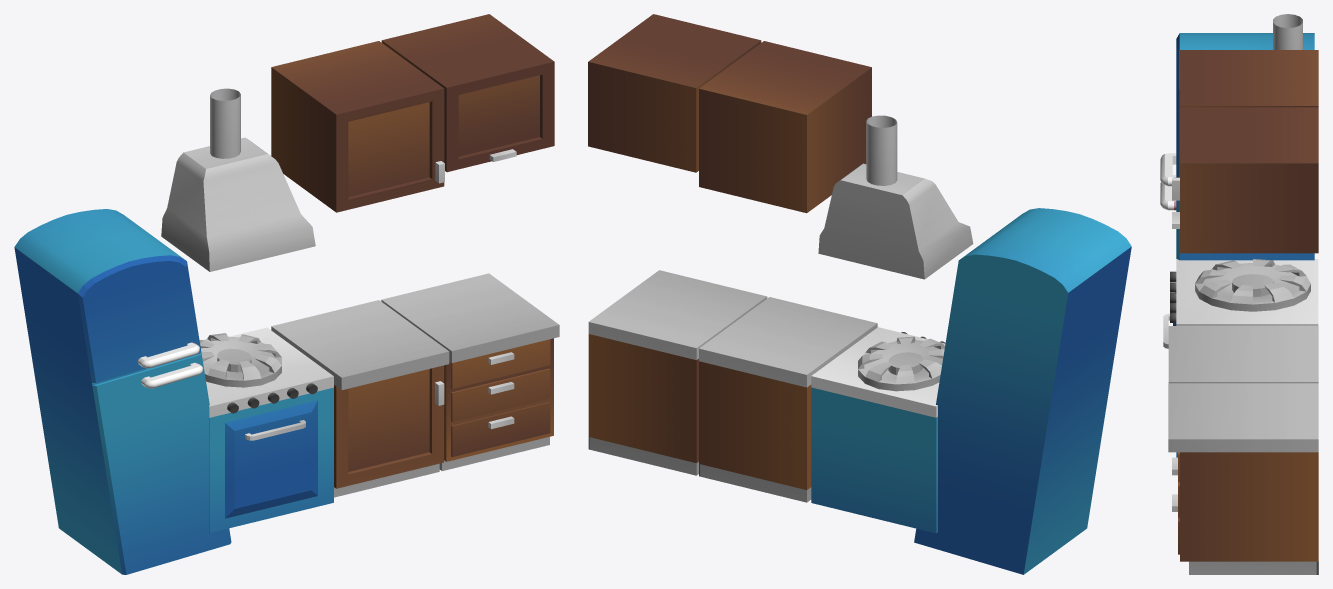
The model's file is Kitchen.FBX.
3 views of the same model, side by side, from view 1: azimuth 30°, elevation 25°; view 2: azimuth 150°, elevation 25°; view 3: azimuth 270°, elevation 25° (orthographic). The views are drawn at different scales.
Parts seen in each view (by area): view 1: Object003, cabinet, Cylinder007, Counter, counter2, cabine2, Cylinder003; view 2: Object003, cabinet, Cylinder007, Counter, counter2, cabine2, Cylinder003; view 3: counter2, cabine2, Cylinder007, Counter, cabinet, Object003, Cylinder003.
Part boxes in pixels (<box>): Object003: <box>14,209,231,574</box>; cabinet: <box>271,41,444,212</box>; Cylinder007: <box>199,327,333,532</box>; Counter: <box>271,300,449,497</box>; counter2: <box>381,273,559,471</box>; cabine2: <box>381,14,554,172</box>; Cylinder003: <box>161,88,315,271</box>; Object003: <box>914,208,1131,574</box>; cabinet: <box>699,41,871,213</box>; Cylinder007: <box>811,327,945,533</box>; Counter: <box>699,297,877,502</box>; counter2: <box>588,270,767,475</box>; cabine2: <box>588,14,761,172</box>; Cylinder003: <box>818,115,973,279</box>; counter2: <box>1168,383,1318,574</box>; cabine2: <box>1172,107,1318,253</box>; Cylinder007: <box>1163,259,1318,457</box>; Counter: <box>1168,326,1318,383</box>; cabinet: <box>1172,50,1318,200</box>; Object003: <box>1160,33,1314,260</box>; Cylinder003: <box>1273,14,1302,49</box>.
Size of the model in its own units: 381 by 311 by 103.
Materials: 1 (1 with a texture image).
